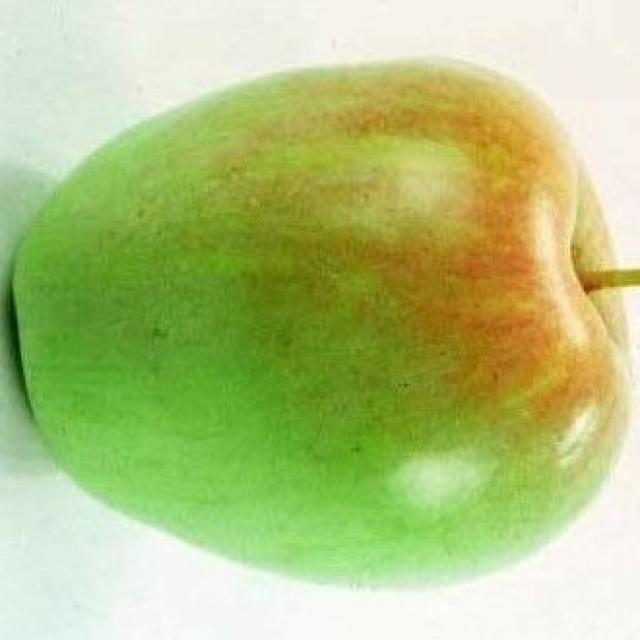75-_ripeness: (19, 58, 630, 585)
